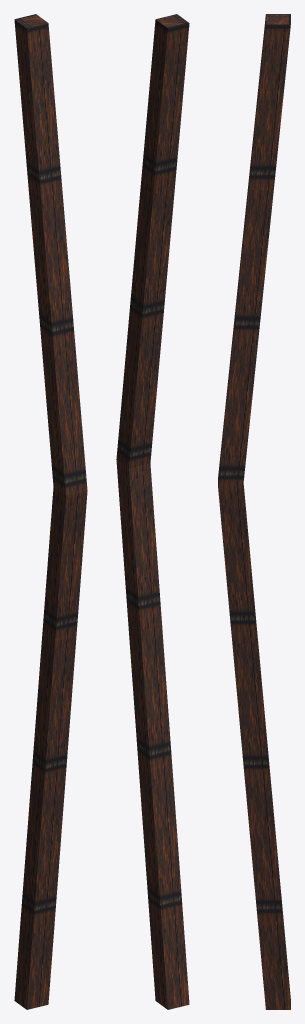
Rendered from lig2.glb.
3 views of the same model, side by side, from view 1: azimuth 30°, elevation 25°; view 2: azimuth 210°, elevation 25°; view 3: azimuth 270°, elevation 25° (orthographic).
Visible parts, largest first — view 1: Plane.001; view 2: Plane.001; view 3: Plane.001.
Part boxes in pixels (bbox=[...]): Plane.001: bbox=[14, 14, 87, 1009]; Plane.001: bbox=[116, 14, 189, 1009]; Plane.001: bbox=[218, 14, 290, 1009].
Bounding box in the file's own units: 0.3243 × 8.26 × 0.5528.
Materials: 1 (1 with a texture image).
